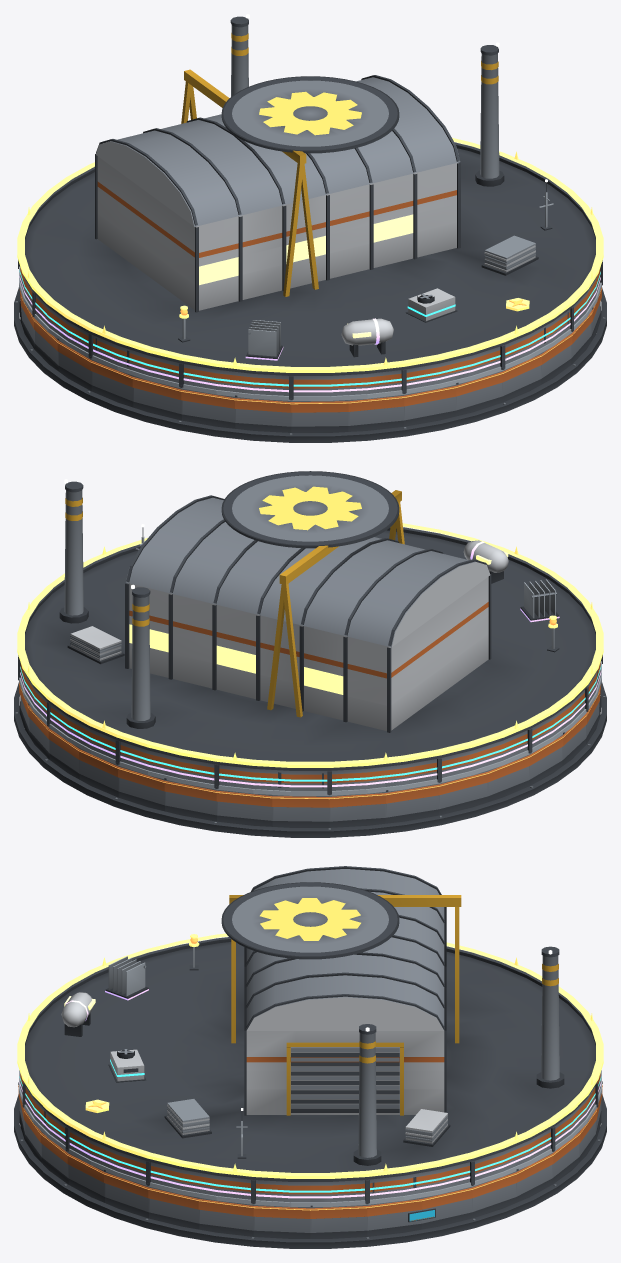
Rendered from fabricator_l.glb.
3 views of the same model, one above another, from view 1: azimuth 30°, elevation 25°; view 2: azimuth 150°, elevation 25°; view 3: azimuth 270°, elevation 25° (orthographic).
Visible parts, largest first — view 1: Roof, Base, L4, Wall_21, Wall_20, Wall_22, Wall_19, Wall_23, Wall_18, Wall_24, Wall_17, Wall_25 (+16 smaller); view 2: Roof, Base, L4, Wall_10, Wall_11, Wall_09, Wall_12, Wall_08, Wall_13, Wall_07, Wall_14, Wall_06 (+18 smaller); view 3: Roof, Base, L4, Wall_00, Wall_31, Wall_30, Wall_01, Wall_29, Wall_02, Wall_28, Wall_03, Wall_04 (+16 smaller).
Part boxes in pixels (<box>): Roof: <box>24,14,596,375</box>; Base: <box>14,287,606,442</box>; L4: <box>245,318,393,360</box>; Wall_21: <box>291,400,348,432</box>; Wall_20: <box>235,395,291,432</box>; Wall_22: <box>348,394,404,431</box>; Wall_19: <box>181,388,235,428</box>; Wall_23: <box>404,384,456,426</box>; Wall_18: <box>132,375,181,420</box>; Wall_24: <box>456,371,502,416</box>; Wall_17: <box>91,360,133,407</box>; Wall_25: <box>502,353,542,402</box>; Roof: <box>24,471,596,770</box>; Base: <box>14,682,606,837</box>; L4: <box>463,540,559,622</box>; Wall_10: <box>272,795,329,827</box>; Wall_11: <box>329,791,385,827</box>; Wall_09: <box>216,789,272,826</box>; Wall_12: <box>385,783,439,823</box>; Wall_08: <box>164,778,216,821</box>; Wall_13: <box>439,770,488,815</box>; Wall_07: <box>118,766,164,811</box>; Wall_14: <box>487,755,529,802</box>; Wall_06: <box>78,748,118,797</box>; Roof: <box>24,866,596,1181</box>; Base: <box>14,1094,606,1248</box>; L4: <box>61,956,148,1036</box>; Wall_00: <box>310,1205,367,1238</box>; Wall_31: <box>253,1205,310,1238</box>; Wall_30: <box>198,1197,253,1236</box>; Wall_01: <box>367,1197,422,1236</box>; Wall_29: <box>148,1186,199,1229</box>; Wall_02: <box>421,1186,472,1229</box>; Wall_28: <box>104,1169,148,1218</box>; Wall_03: <box>472,1171,516,1218</box>; Wall_04: <box>516,1153,553,1202</box>.
Size of the model in its own units: 20.76 by 7.88 by 20.76.
